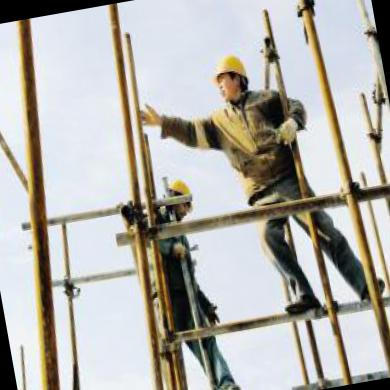helmet: (208, 53, 252, 85), (166, 177, 195, 208)
